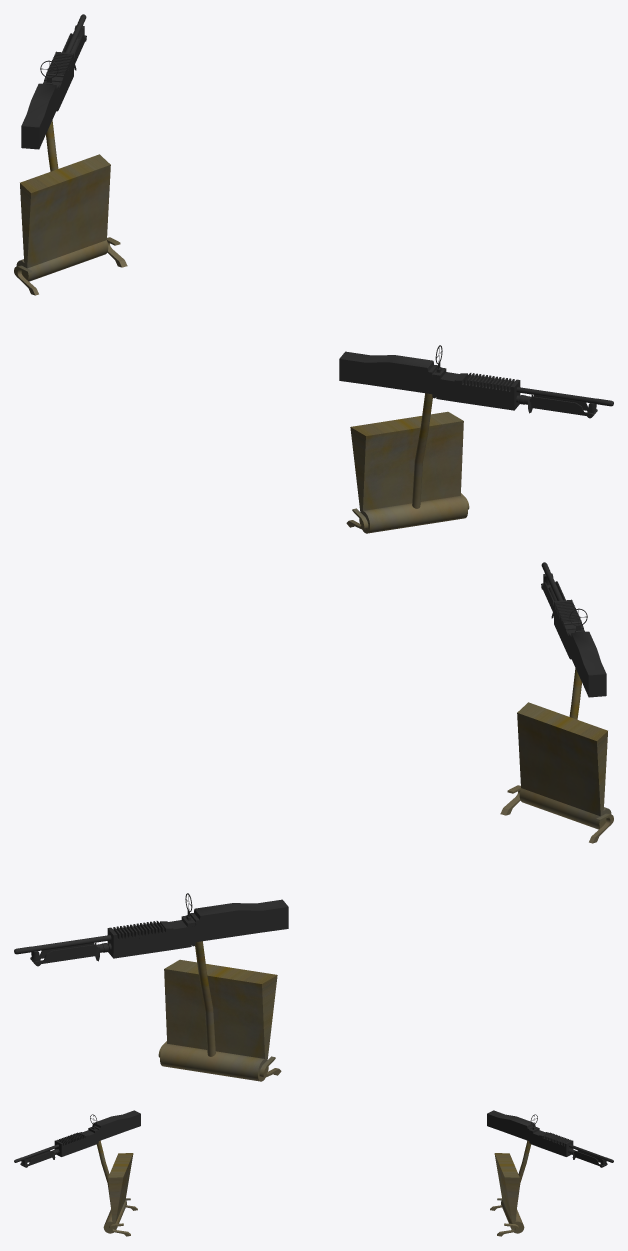
3 renders of one model, top to bottom at view 1: azimuth 30°, elevation 25°; view 2: azimuth 150°, elevation 25°; view 3: azimuth 270°, elevation 25°, orthographic. The views are drawn at different scales.
Parts seen in each view (by area): view 1: m60 bipod; view 2: m60 bipod; view 3: m60 bipod.
Part boxes in pixels (x1=…): m60 bipod: x1=14, y1=14, x2=613, y2=533; m60 bipod: x1=14, y1=562, x2=613, y2=1081; m60 bipod: x1=14, y1=1110, x2=613, y2=1236.
Size of the model in its own units: 0.893 by 0.978 by 4.84.
Materials: 4 (1 with a texture image).
